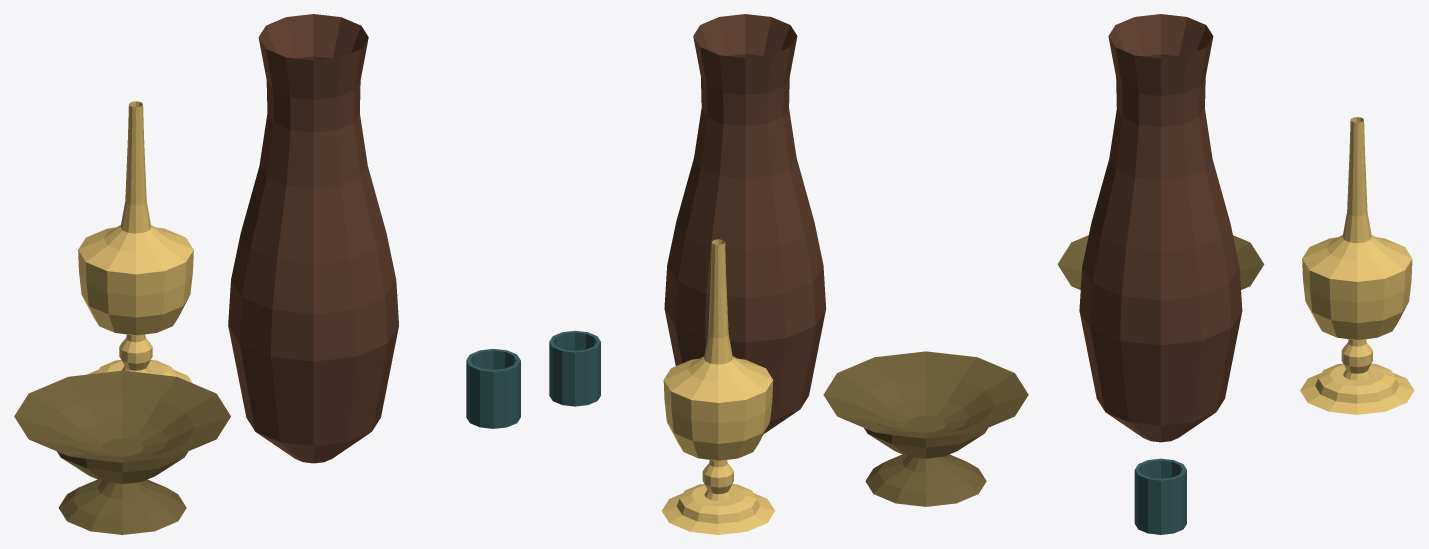
Rendered from VasesAndDecor.fbx.
3 views of the same model, side by side, from view 1: azimuth 30°, elevation 25°; view 2: azimuth 150°, elevation 25°; view 3: azimuth 270°, elevation 25° (orthographic). The views are drawn at different scales.
Visible parts, largest first — view 1: Cylinder, Circle, Circle.001, Circle.002; view 2: Cylinder, Circle, Circle.001, Circle.002; view 3: Cylinder, Circle.001, Circle.002, Circle.
Boxes of the visible parts, <box> form: Cylinder: <box>228,14,398,463</box>; Circle: <box>14,370,230,534</box>; Circle.001: <box>78,101,193,383</box>; Circle.002: <box>466,349,520,428</box>; Cylinder: <box>664,14,826,433</box>; Circle: <box>823,351,1028,506</box>; Circle.001: <box>662,239,774,534</box>; Circle.002: <box>549,330,600,406</box>; Cylinder: <box>1079,14,1242,442</box>; Circle.001: <box>1300,117,1414,414</box>; Circle.002: <box>1134,458,1186,534</box>; Circle: <box>1057,235,1264,289</box>.
Size of the model in its own units: 4.63 by 3.84 by 3.07.
